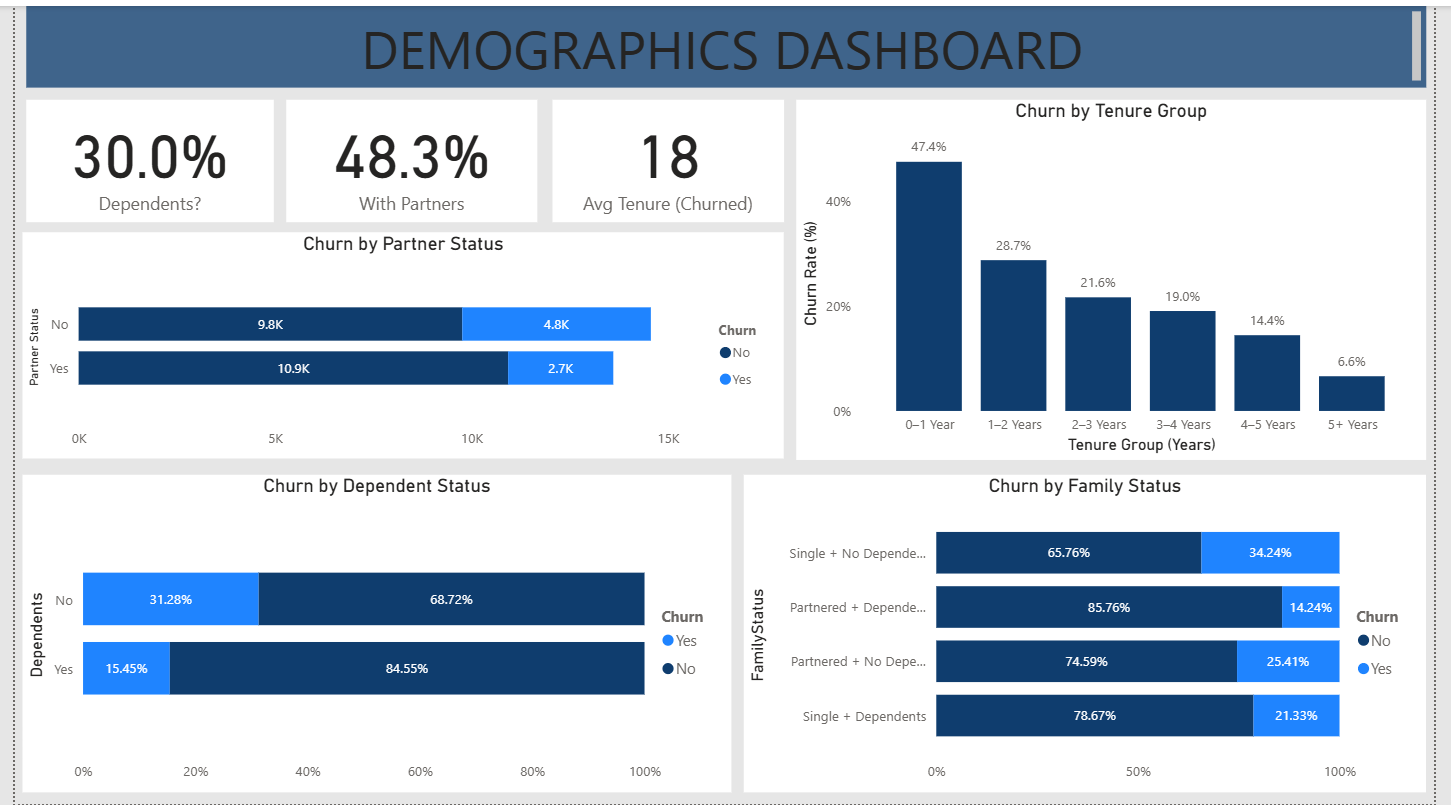

The dashboard page shown, as its layout file describes it:
{"tool":"powerbi","page":{"name":"Demographics","canvas":[1280,720],"ordinal":1},"visuals":[{"type":"barChart","title":"Churn by Partner Status","fields":{"Series":["WA_Fn-UseC_-Telco-Customer-Chur.Churn"],"Category":["WA_Fn-UseC_-Telco-Customer-Chur.Partner"],"Y":["CountNonNull(WA_Fn-UseC_-Telco-Customer-Chur.customerID)"]},"box":[6.2,204,686.7,204],"z":0},{"type":"textbox","box":[10.1,0,1262.4,73.3],"z":1000},{"type":"hundredPercentStackedBarChart","title":"Churn by Dependent Status","fields":{"Series":["WA_Fn-UseC_-Telco-Customer-Chur.Churn"],"Y":["CountNonNull(WA_Fn-UseC_-Telco-Customer-Chur.customerID)"],"Category":["WA_Fn-UseC_-Telco-Customer-Chur.Dependents"]},"box":[6.8,422.7,639.1,286.3],"z":2000},{"type":"clusteredColumnChart","title":"Churn by Tenure Group ","fields":{"Category":["WA_Fn-UseC_-Telco-Customer-Chur.TenureGroup_Years"],"Y":["WA_Fn-UseC_-Telco-Customer-Chur.ChurnRate_TenureGroup"]},"box":[704.4,84.5,568.1,324.6],"z":3000},{"type":"card","fields":{"Values":["WA_Fn-UseC_-Telco-Customer-Chur.PctWithDependents"]},"box":[10.1,84.5,223.2,110.5],"z":4000},{"type":"card","fields":{"Values":["WA_Fn-UseC_-Telco-Customer-Chur.PctWithPartners"]},"box":[244.6,84.5,226.6,110.5],"z":5000},{"type":"card","fields":{"Values":["WA_Fn-UseC_-Telco-Customer-Chur.AvgTenure_Churned"]},"box":[484.7,84.5,208.5,110.5],"z":6000},{"type":"hundredPercentStackedBarChart","title":"Churn by Family Status","fields":{"Series":["WA_Fn-UseC_-Telco-Customer-Chur.Churn"],"Category":["WA_Fn-UseC_-Telco-Customer-Chur.FamilyStatus"],"Y":["CountNonNull(WA_Fn-UseC_-Telco-Customer-Chur.customerID)"]},"box":[657.1,422.7,615.4,286.3],"z":7000}]}

Visuals, with their boxes in screenshot pixels (x1, y1, x2, y2), scaled from the page's 1280x720 canvas onto the 1451x805 screenshot:
"Churn by Partner Status" barChart: x1=7 y1=228 x2=785 y2=456
textbox: x1=11 y1=0 x2=1442 y2=82
"Churn by Dependent Status" hundredPercentStackedBarChart: x1=8 y1=473 x2=732 y2=793
"Churn by Tenure Group " clusteredColumnChart: x1=799 y1=94 x2=1442 y2=457
card - WA_Fn-UseC_-Telco-Customer-Chur.PctWithDependents: x1=11 y1=94 x2=264 y2=218
card - WA_Fn-UseC_-Telco-Customer-Chur.PctWithPartners: x1=277 y1=94 x2=534 y2=218
card - WA_Fn-UseC_-Telco-Customer-Chur.AvgTenure_Churned: x1=549 y1=94 x2=786 y2=218
"Churn by Family Status" hundredPercentStackedBarChart: x1=745 y1=473 x2=1442 y2=793
